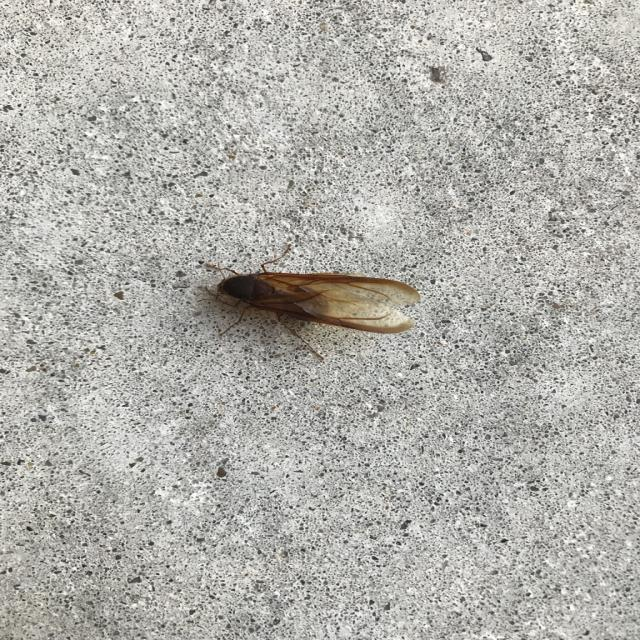Alive-Male-Alate: (197, 243, 421, 362)
